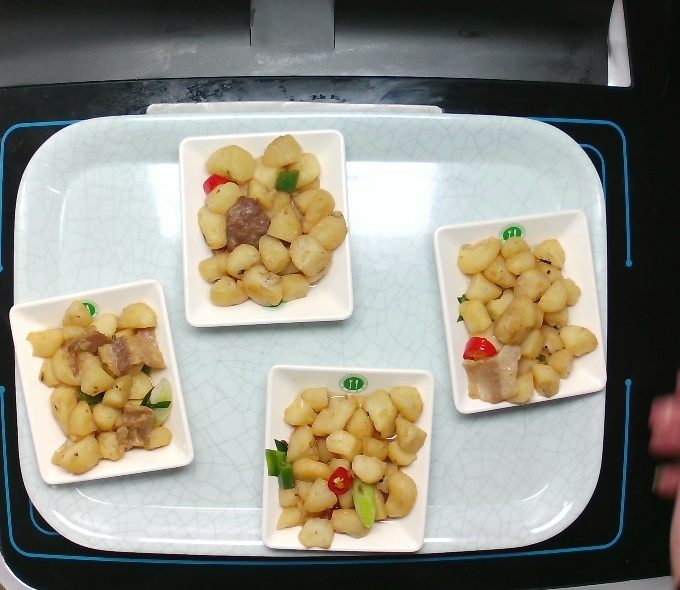wcq-MaTiGuoChaoRou: (193, 130, 356, 312), (259, 381, 430, 552), (21, 297, 178, 481), (450, 228, 603, 412)
